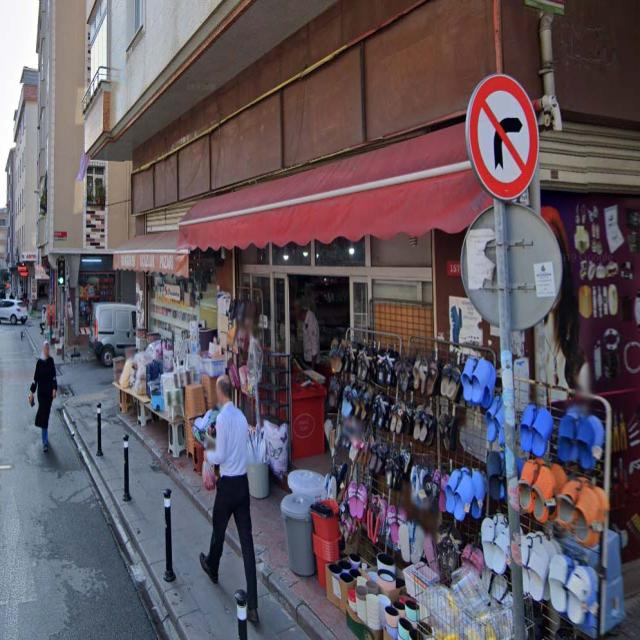sagadonulmez: (469, 73, 539, 201)
